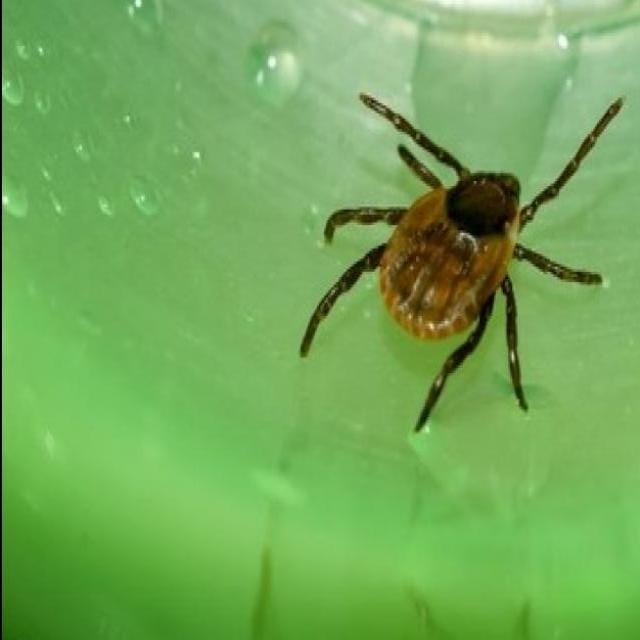Rhipicephalus Sanguineus-F: (299, 95, 620, 433)
